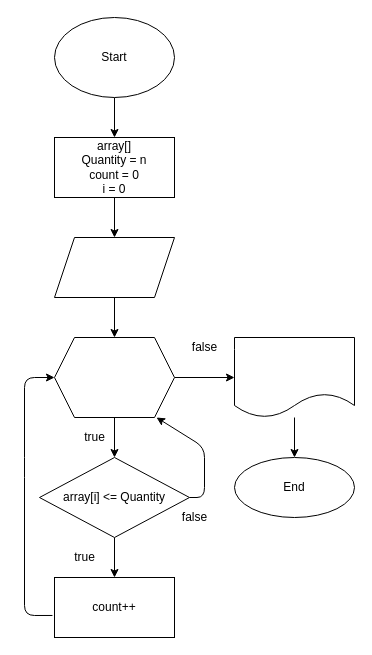
Some shapes in this 372 by 655 pixel diagram are drawn without their labels. Here are the shapes that lost their labels. From the top down, the centre of each, then its label:
(x=114, y=267): array [] Quantity
(x=114, y=377): i, array.Length
(x=294, y=377): count
